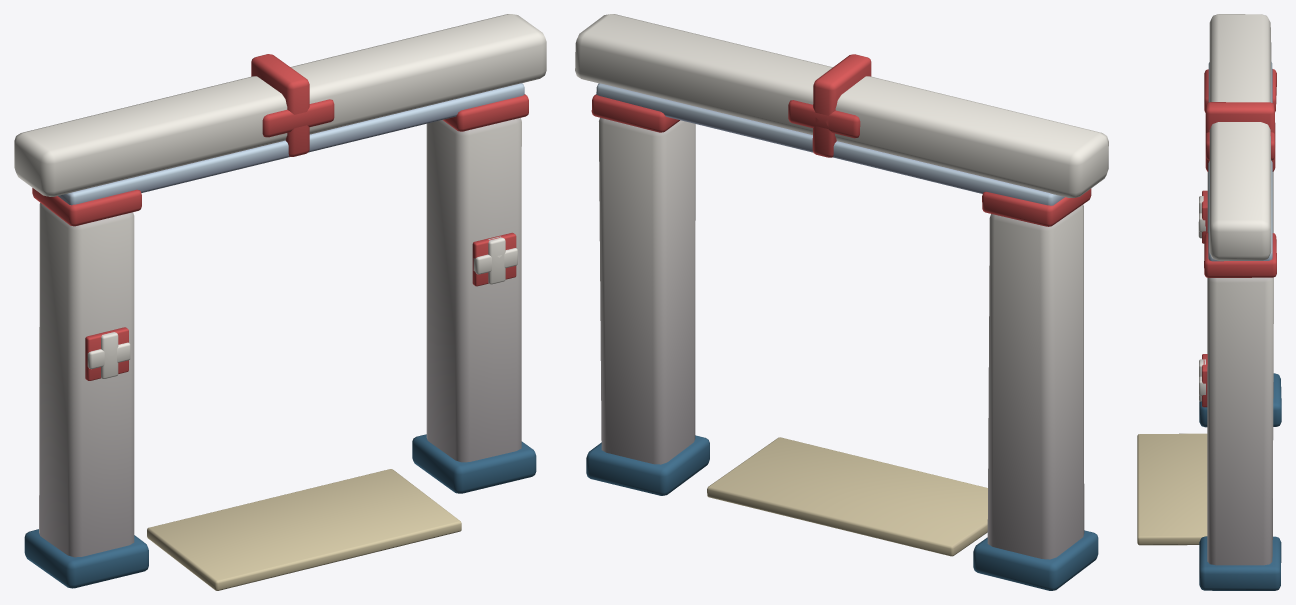
3 views of the same model, side by side, from view 1: azimuth 30°, elevation 25°; view 2: azimuth 150°, elevation 25°; view 3: azimuth 270°, elevation 25° (orthographic). The views are drawn at different scales.
Parts seen in each view (by area): view 1: gate_8177ca62; view 2: gate_8177ca62; view 3: gate_8177ca62.
Boxes of the visible parts, <box> form: gate_8177ca62: <box>14,14,546,590</box>; gate_8177ca62: <box>575,14,1108,590</box>; gate_8177ca62: <box>1137,14,1281,590</box>.
Bounding box in the file's own units: 4.93 × 4.2 × 1.41.
